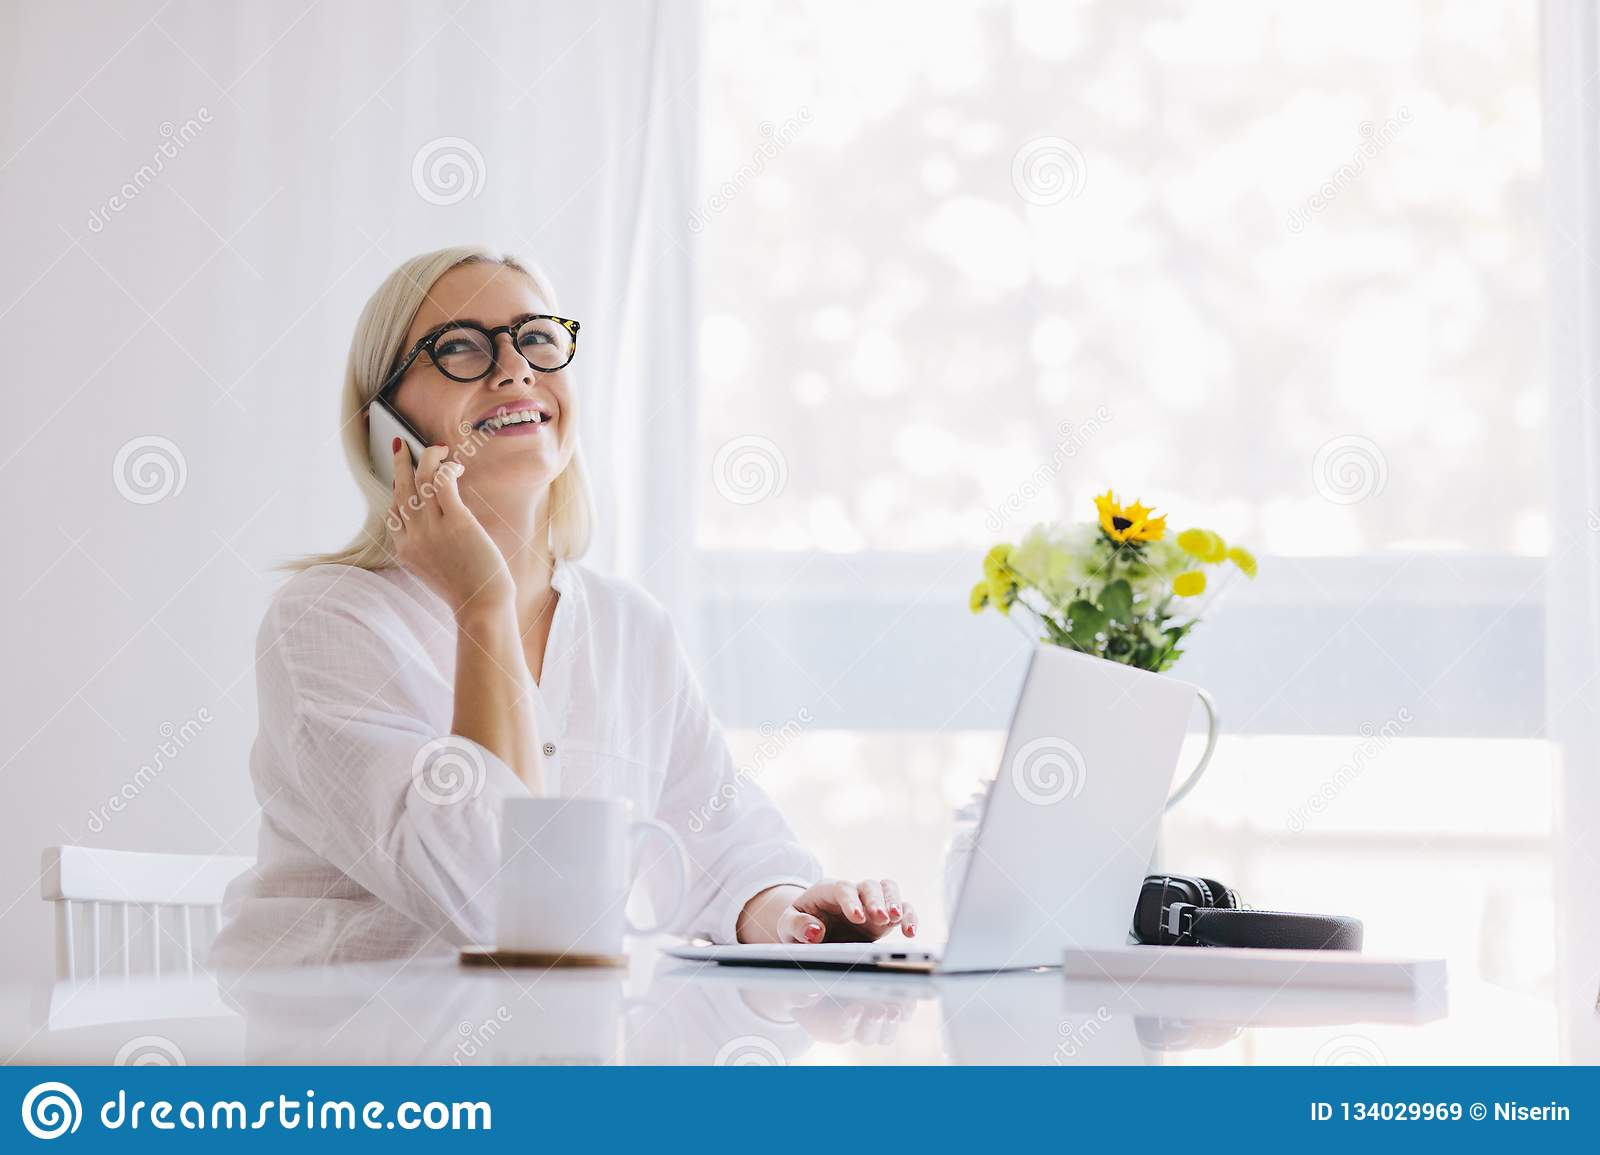phone: (366, 399, 452, 500)
talk: (366, 308, 585, 637)
